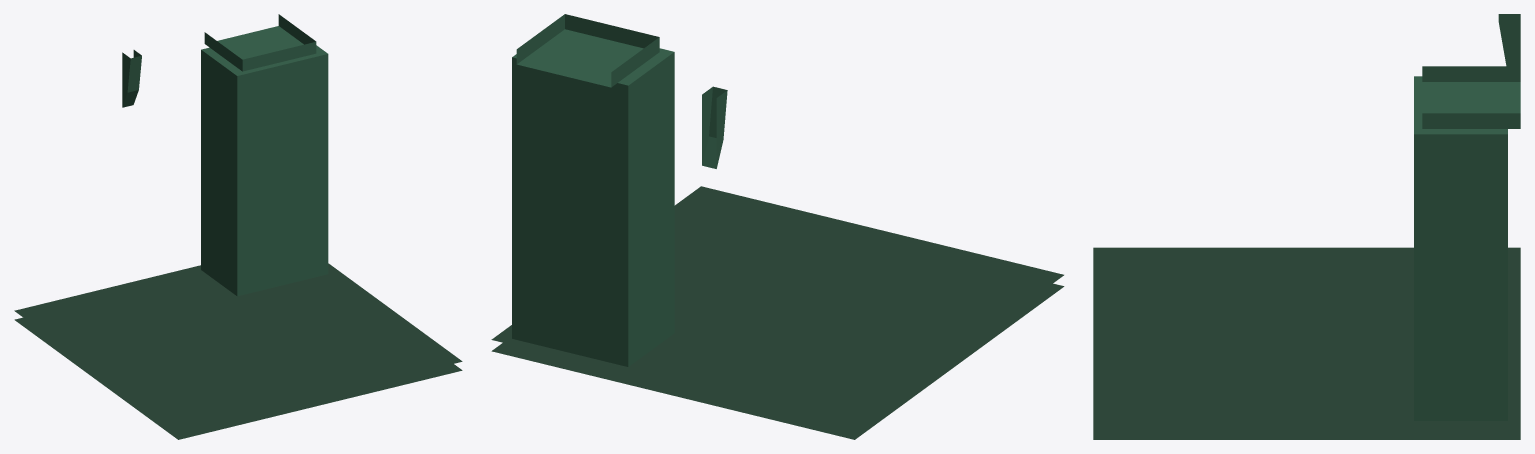
The model's file is cell_25.obj.
3 renders of one model, left to right at view 1: azimuth 30°, elevation 25°; view 2: azimuth 150°, elevation 25°; view 3: azimuth 270°, elevation 25°, orthographic. The views are drawn at different scales.
Size of the model in its own units: 1 by 0.81 by 1.
